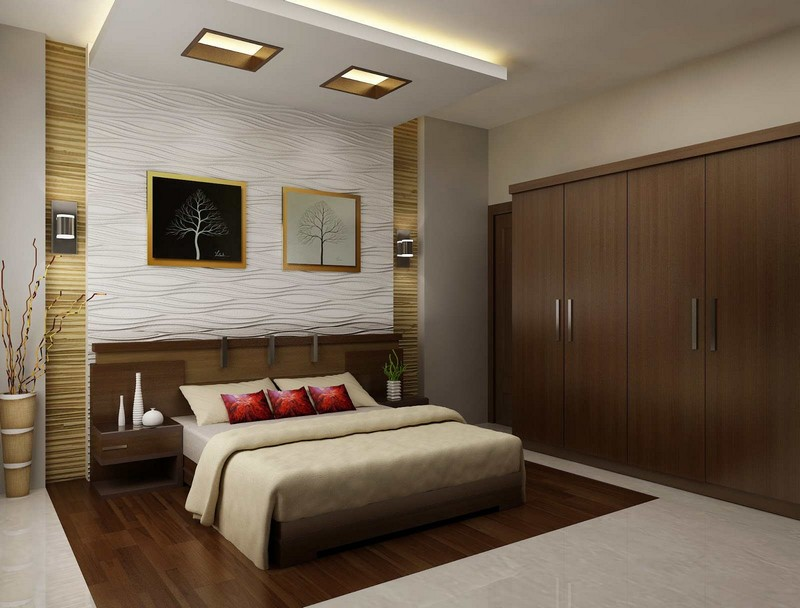bed: (183, 370, 524, 568)
lamp: (54, 212, 80, 243), (398, 236, 414, 260)
stool: (90, 415, 188, 500)
